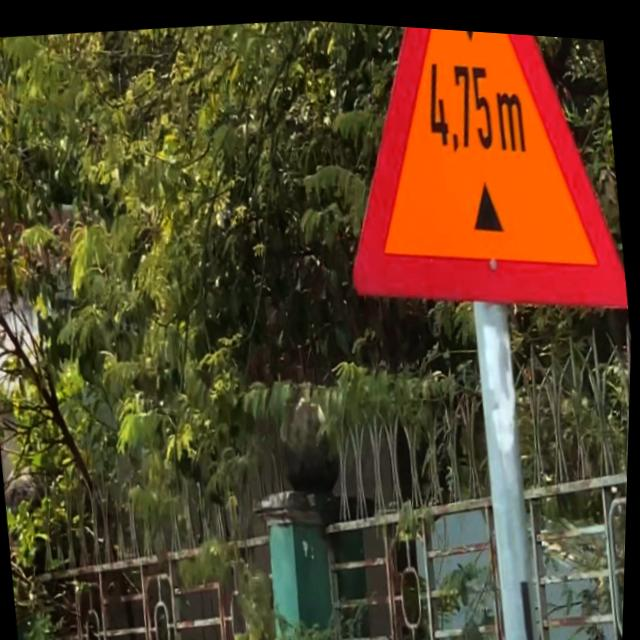Chieu cao an toan: (317, 17, 636, 338)
